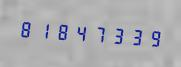eight: (17, 14, 34, 43), (53, 17, 70, 45)
four: (71, 18, 88, 46)
nine: (143, 23, 160, 51)
one: (35, 16, 52, 44)
seven: (89, 19, 106, 48)
three: (107, 21, 124, 49), (125, 22, 142, 50)
